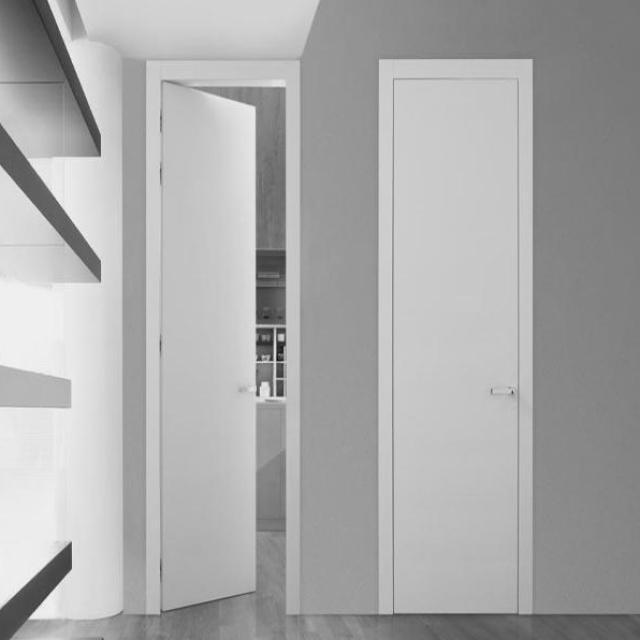door: (381, 58, 527, 615), (159, 79, 257, 612)
